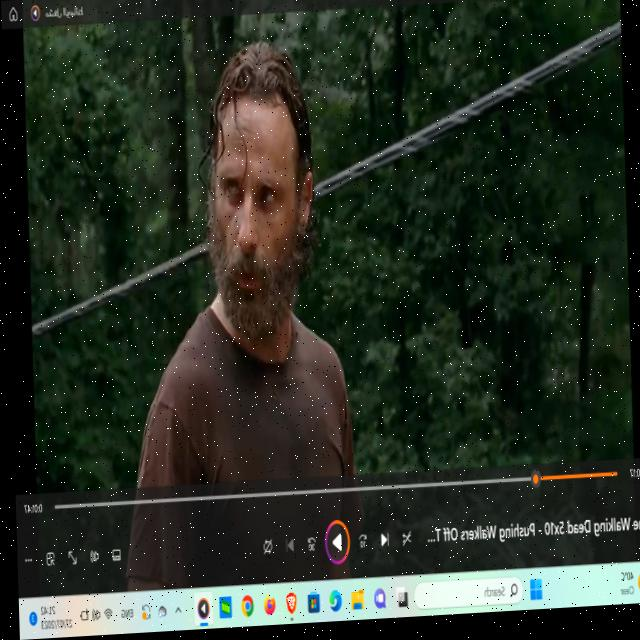human: (196, 61, 321, 343)
